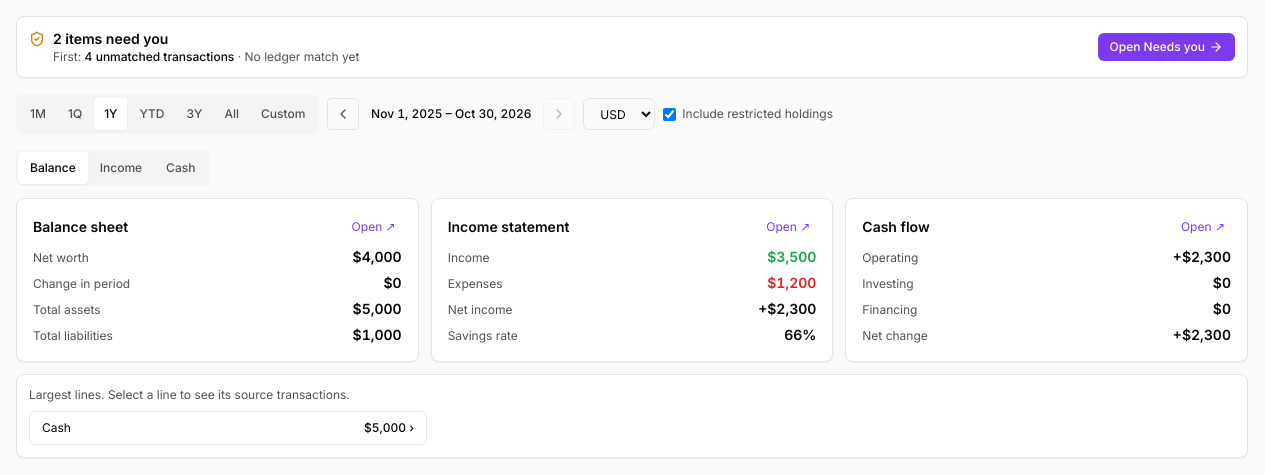
Test: Home fetch budget (#2583 S4) › AC-reporting.fe-fetch-budget.1 toggling restricted holdings refetches only the two balance sheets
Expected: the text "$4,000" is shown, 352,247 -> 402,267
Expected: the text "+$2,300" in the row of "Net change" is shown, 1173,326 -> 1231,343
Click the checkbox labelled "Include restricted holdings": {"x": 670, "y": 114} 663,108 -> 676,120
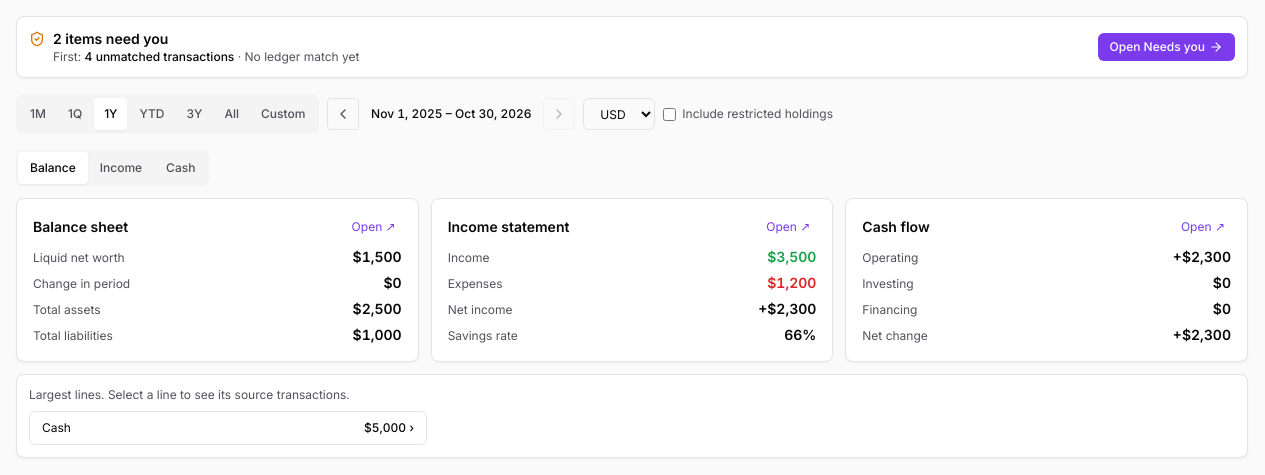
Result: the text "$1,500" is shown at 352,247 -> 402,267
